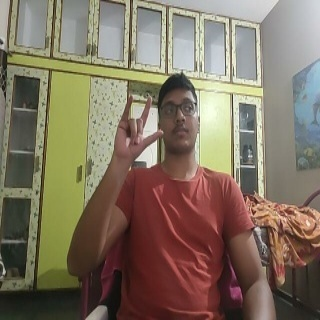I Love You: (112, 91, 164, 162)
